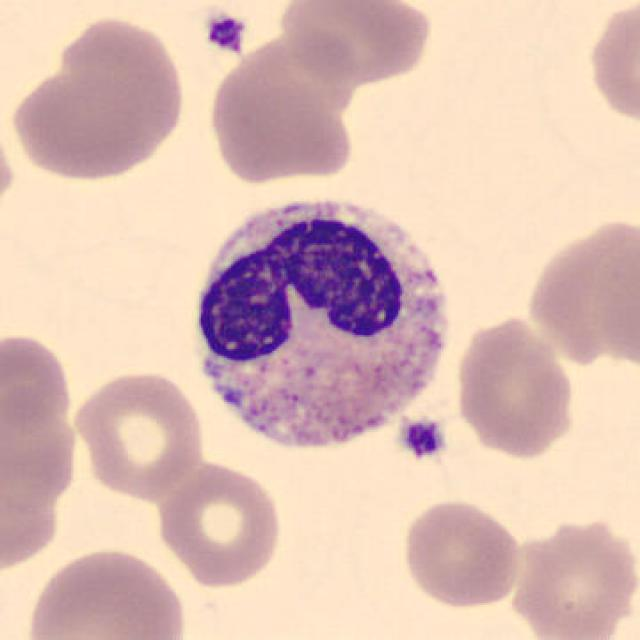Neutrophil: (180, 182, 462, 470)
Platelets: (201, 7, 249, 58), (398, 416, 448, 460)
RBC: (7, 12, 190, 185), (213, 29, 363, 188), (452, 312, 580, 462), (68, 365, 208, 501), (521, 212, 636, 368), (153, 456, 286, 590), (505, 511, 638, 640), (20, 543, 190, 640), (398, 495, 524, 612), (274, 0, 436, 88), (0, 416, 65, 567), (0, 327, 76, 437), (583, 0, 638, 132), (0, 106, 20, 229)
